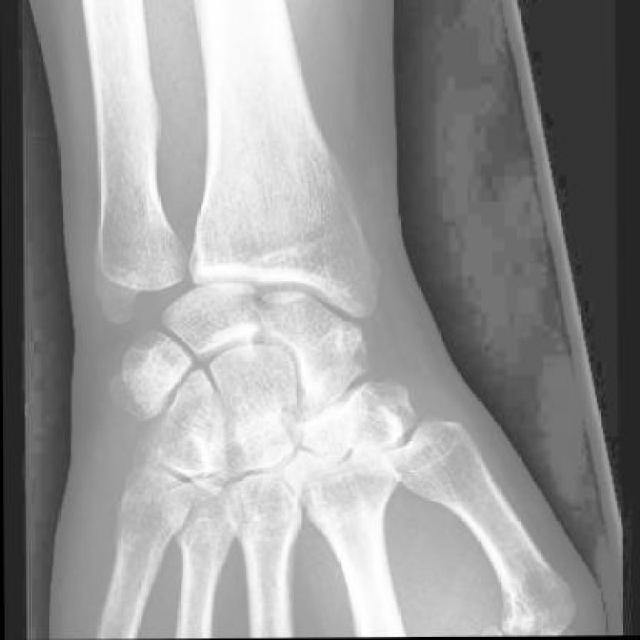Fracture: (294, 317, 370, 362)
